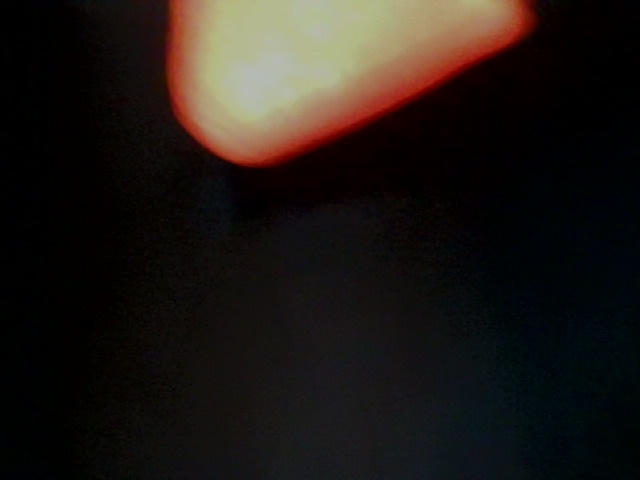QTLJ: (52, 150, 224, 345)
